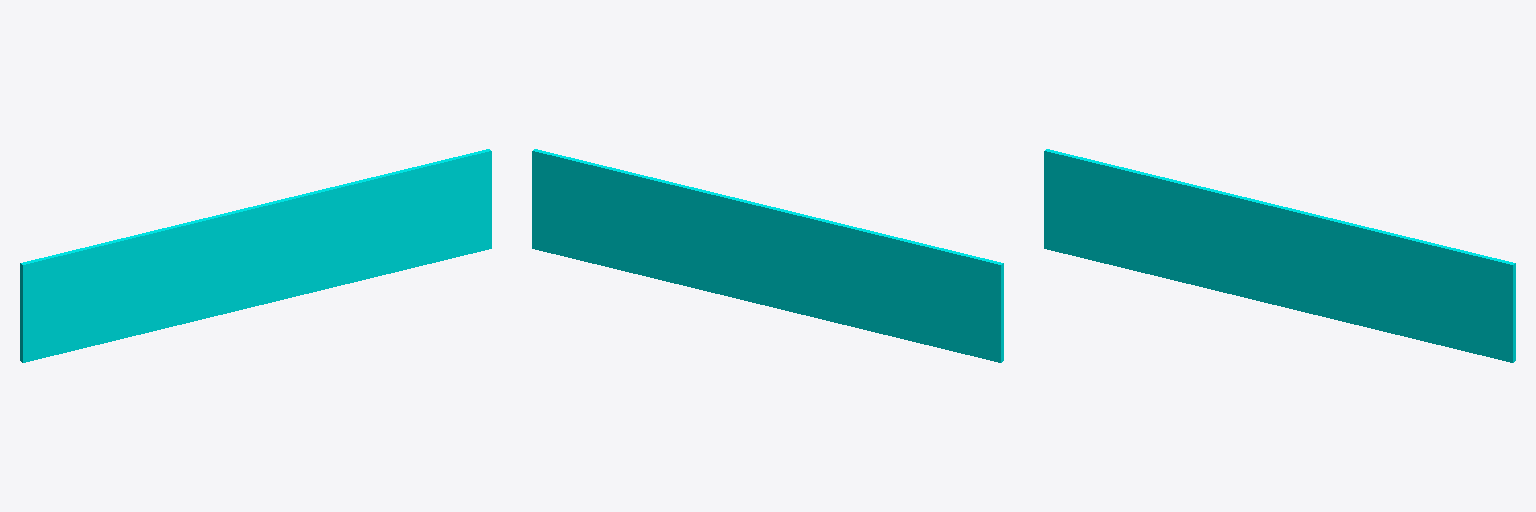
URDF robot description (ball):
<?xml version="0.0" ?>
<robot name="ball">
    <link name="wall">
        <contact>
            <lateral_friction value="1"/>
        </contact>

        <inertial>
            <origin xyz="0 0 0" rpy="0 0 0"/>
            <mass value="0.0"/>
            <inertia ixx="0"  ixy="0"  ixz="0" iyy="0" iyz="0" izz="0" />
        </inertial>

        <visual>
            <origin xyz="0 0 0" rpy="0 0 0" />
            <geometry>
                <box size="10 0.1 2" />
            </geometry>
            <material name="Cyan">
                <color rgba="0 1.0 1.0 1.0"/>
            </material>
        </visual>

        <collision>
            <origin xyz="0 0 0" rpy="0 0 0"/>
            <geometry>
                <box size="10 0.1 2" />
            </geometry>
        </collision>
    </link>
</robot>

--- Facts derived from the render (not from the file) ---
Views: 3 orthographic renders of the robot side by side, from view 1: azimuth 30°, elevation 25°; view 2: azimuth 150°, elevation 25°; view 3: azimuth 330°, elevation 25°.
Robot: ball — 1 links, 0 joints (none); root link wall; default pose: every joint at zero.
Visible links, largest first — view 1: wall; view 2: wall; view 3: wall.
Boxes of the visible links, x1,y1,x2,y2 form: wall: [20, 149, 491, 362]; wall: [532, 149, 1003, 362]; wall: [1044, 149, 1515, 362].
Size in the robot's own frame: 10 by 0.1 by 2 metres.
Geometry: primitives only (box / cylinder / sphere), no mesh files.